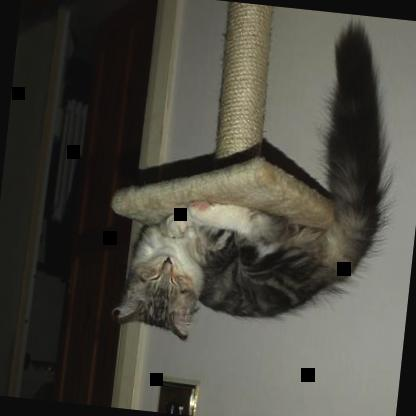cat: (113, 2, 400, 359)
